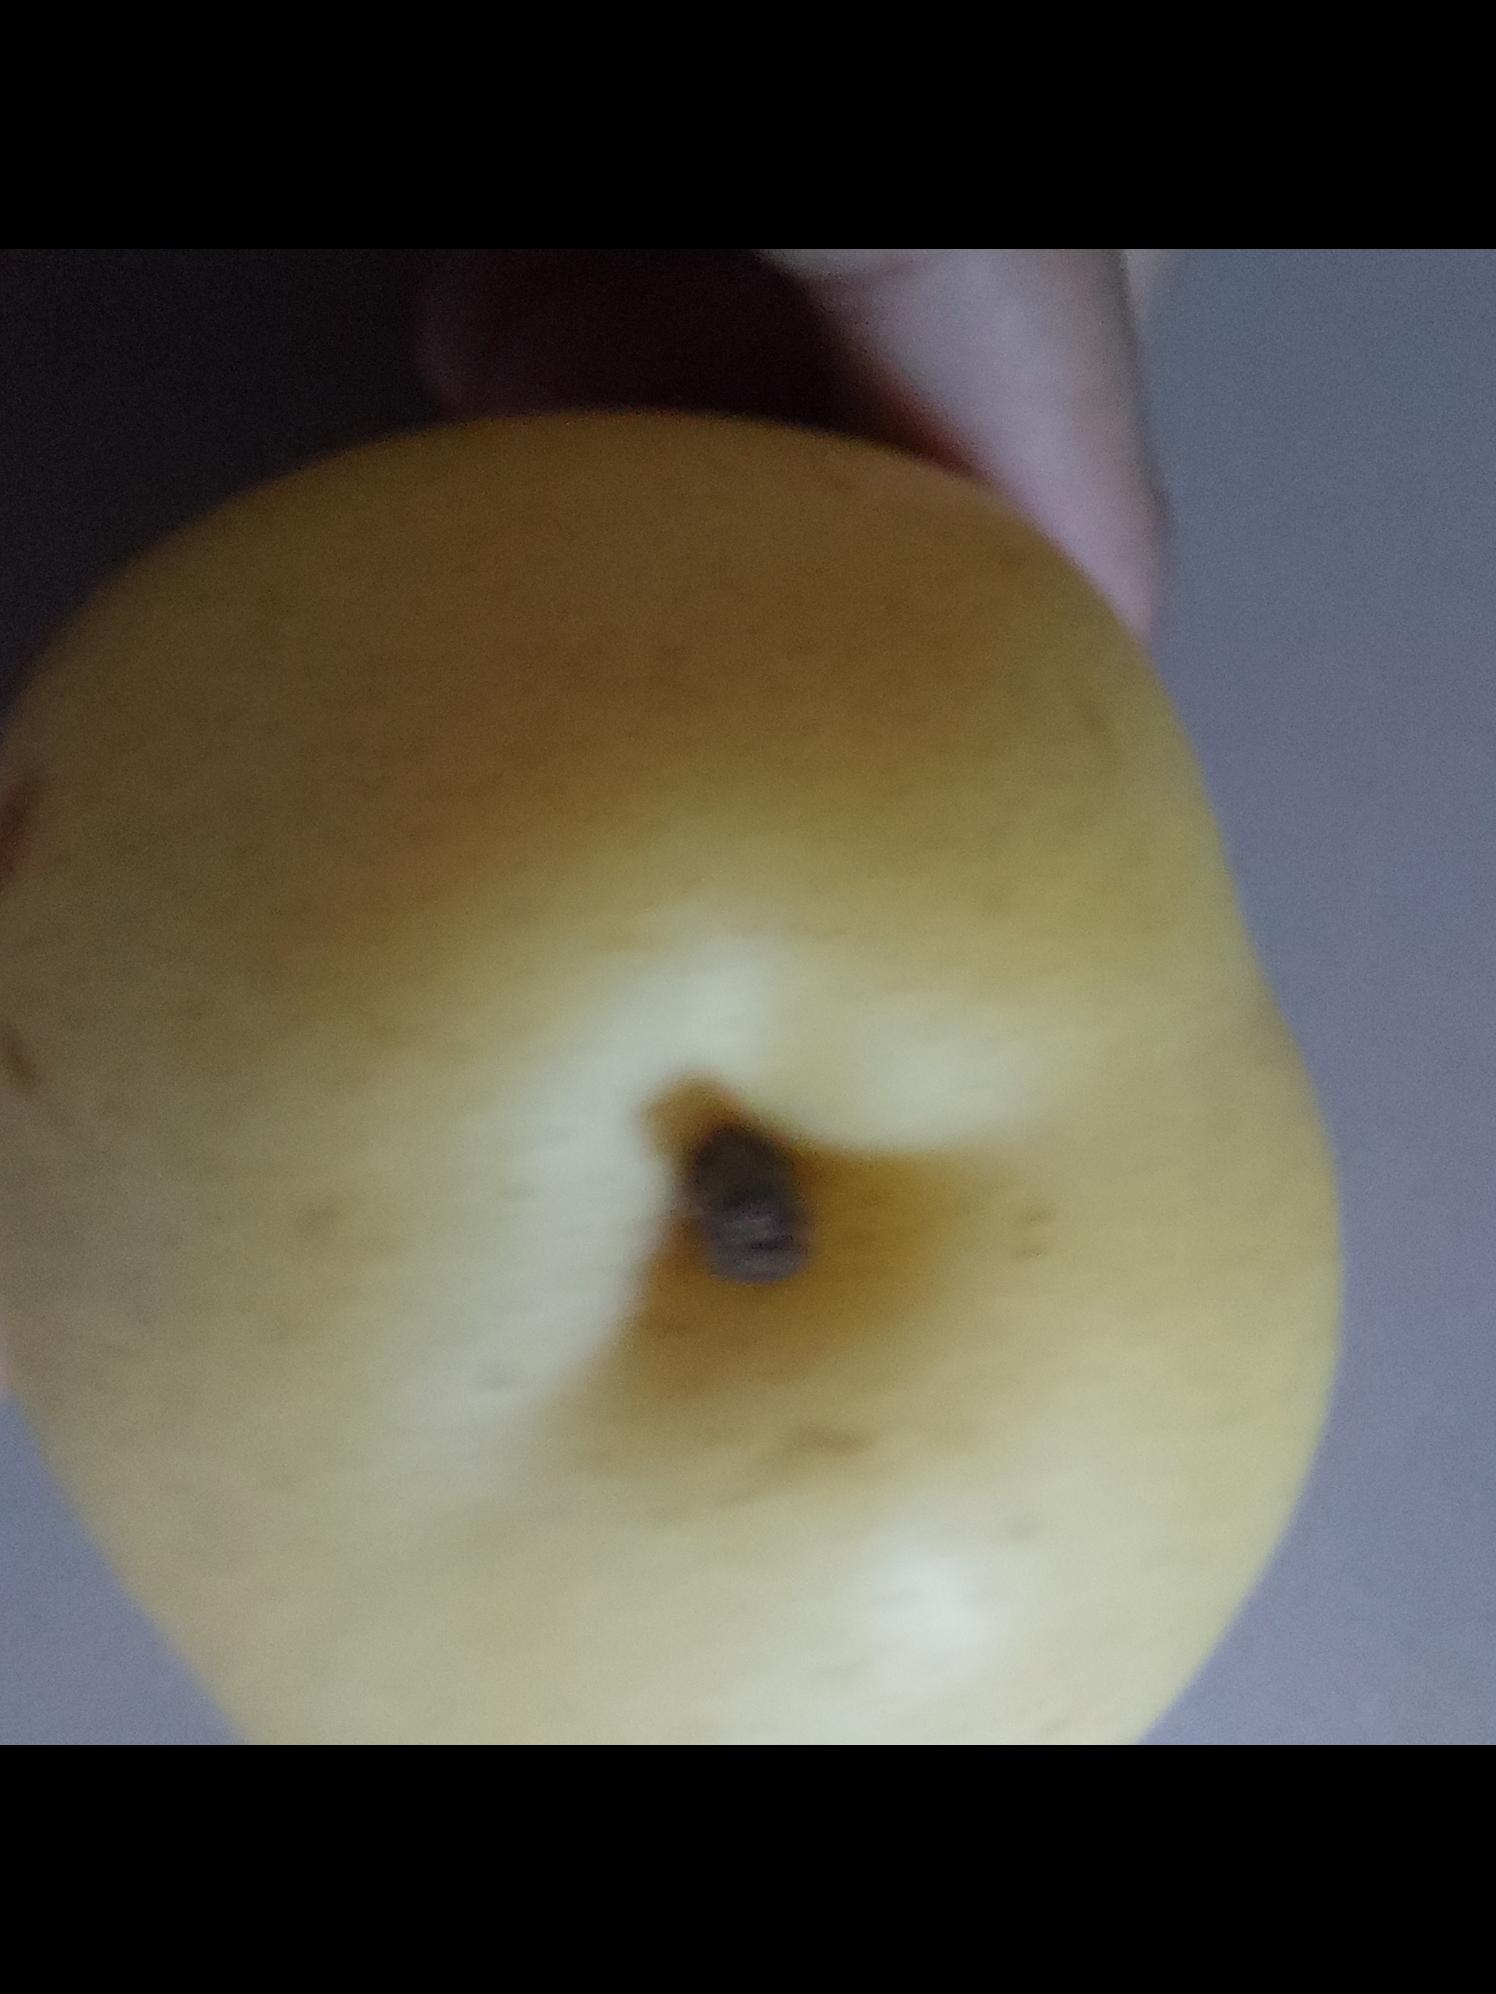Good Pear: (0, 437, 1351, 1746)
